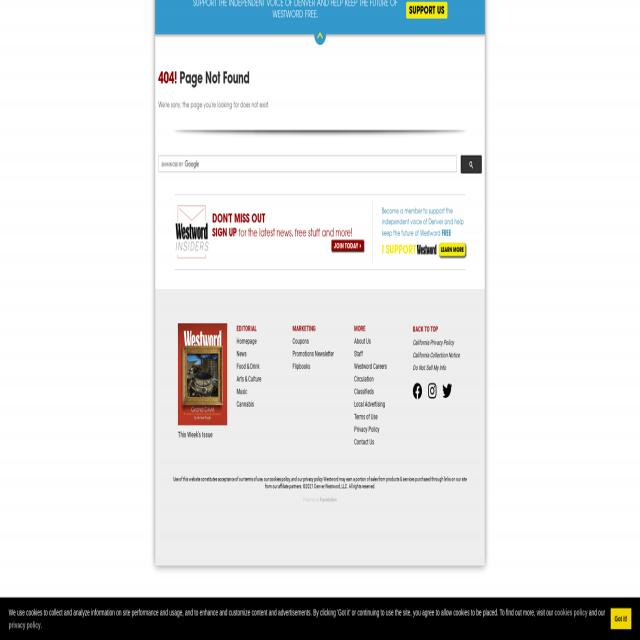button: (178, 323, 227, 425), (174, 200, 210, 264), (406, 2, 448, 18), (610, 608, 632, 629), (462, 155, 482, 173), (439, 244, 465, 256), (417, 245, 437, 255), (442, 382, 452, 400), (316, 28, 326, 45), (413, 383, 422, 399), (428, 382, 436, 400)
field: (158, 154, 457, 171)
